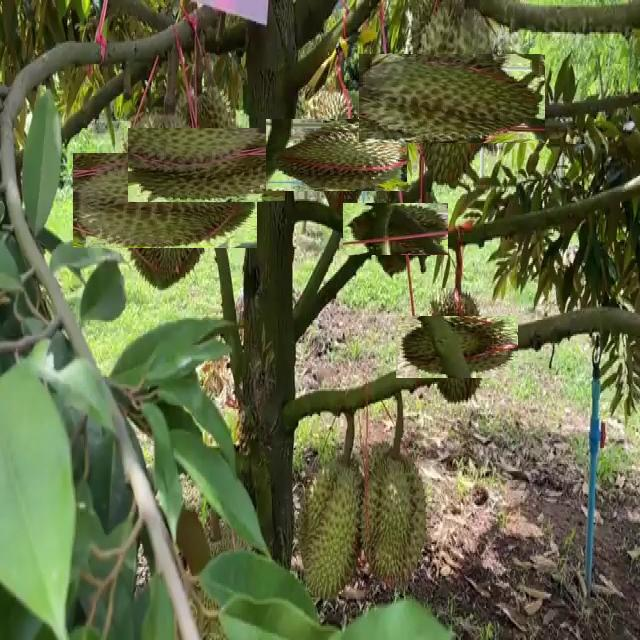durian: (96, 130, 236, 270), (383, 29, 521, 167), (148, 107, 264, 223), (282, 102, 390, 209), (360, 438, 430, 596), (295, 447, 365, 605), (411, 301, 504, 394), (355, 190, 435, 269)
